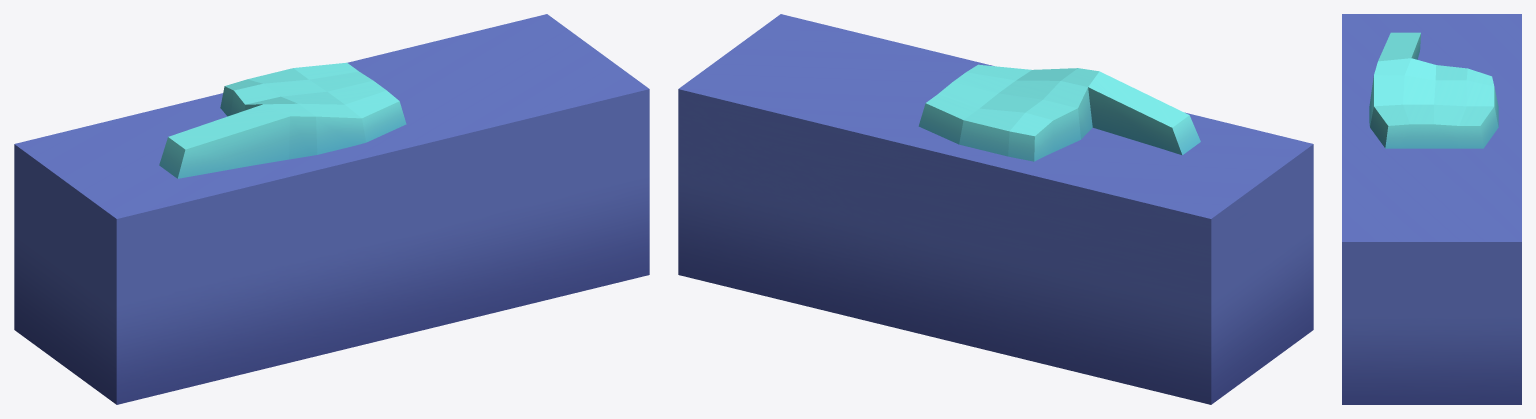
File: itemSelection.fbx
The picture shows the model from 3 angles, left to right: view 1: azimuth 30°, elevation 25°; view 2: azimuth 150°, elevation 25°; view 3: azimuth 270°, elevation 25°; orthographic projection. The views are drawn at different scales.
Visible parts, largest first — view 1: item, hand; view 2: item, hand; view 3: item, hand.
Boxes of the visible parts, x1,y1,x2,y2 form: item: (14, 14, 649, 404); hand: (159, 62, 406, 178); item: (678, 14, 1313, 404); hand: (918, 64, 1200, 161); item: (1342, 14, 1521, 404); hand: (1369, 32, 1498, 148).
Bounding box in the file's own units: 600 × 243 × 200.
